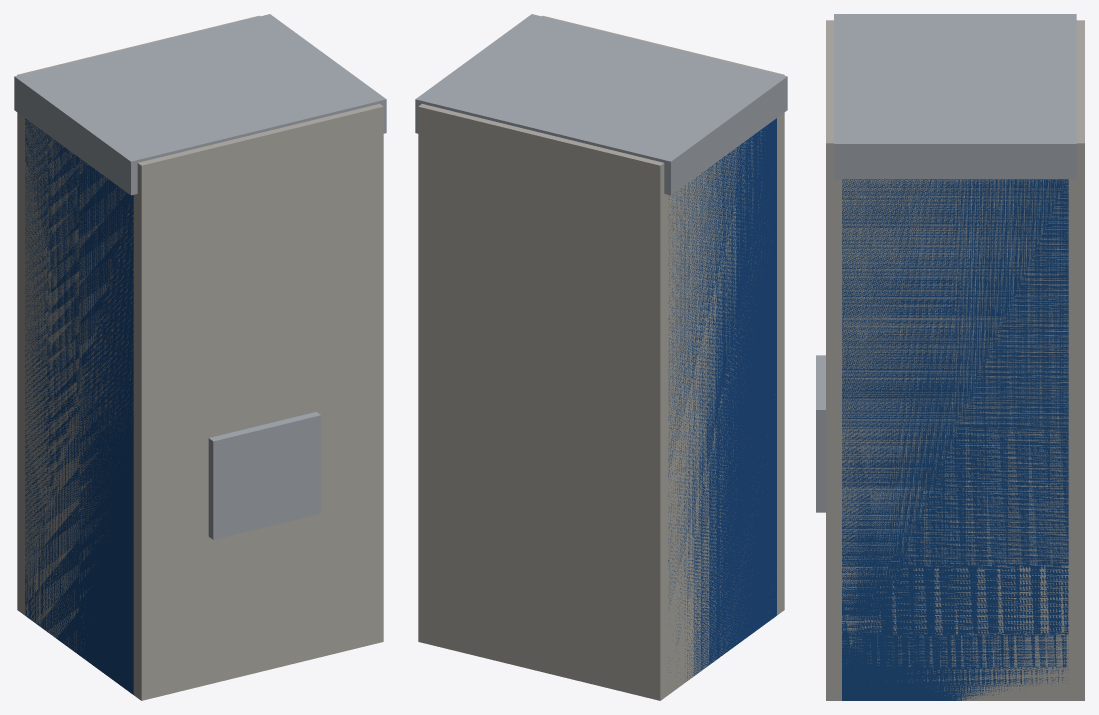
File: PRP_ATM.fbx
The picture shows the model from 3 angles, left to right: view 1: azimuth 30°, elevation 25°; view 2: azimuth 150°, elevation 25°; view 3: azimuth 270°, elevation 25°; orthographic projection. The views are drawn at different scales.
Parts seen in each view (by area): view 1: PRP_ATM__COL_Main, PRP_ATM__BODY; view 2: PRP_ATM__COL_Main, PRP_ATM__BODY; view 3: PRP_ATM__BODY, PRP_ATM__COL_Main.
Part boxes in pixels (x1,y1,x2,y2): PRP_ATM__COL_Main: [17, 15, 383, 700]; PRP_ATM__BODY: [14, 14, 386, 694]; PRP_ATM__COL_Main: [418, 15, 784, 700]; PRP_ATM__BODY: [415, 14, 787, 680]; PRP_ATM__BODY: [816, 14, 1076, 700]; PRP_ATM__COL_Main: [826, 20, 1084, 700].
Bounding box in the file's own units: 0.95 × 1.91 × 0.83.
